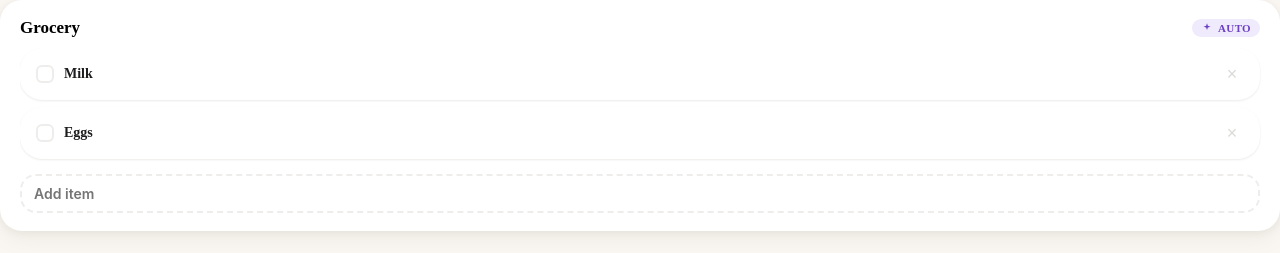
Test case: GroceryCard › removes an item via the delete button
The width and height of the screenshot is (1280, 253).
Expected: the text "Milk" is shown, [64,66,93,82]
Click the button named "Remove Milk". click: [1232, 74]
box: [1220,62,1244,86]
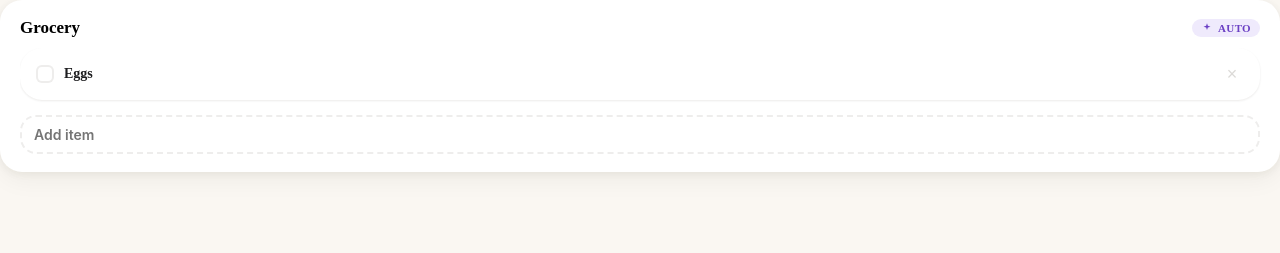
Expected: the text "Eggs" is shown, [64,66,93,82]
Expected: the button "Milk" is gone
